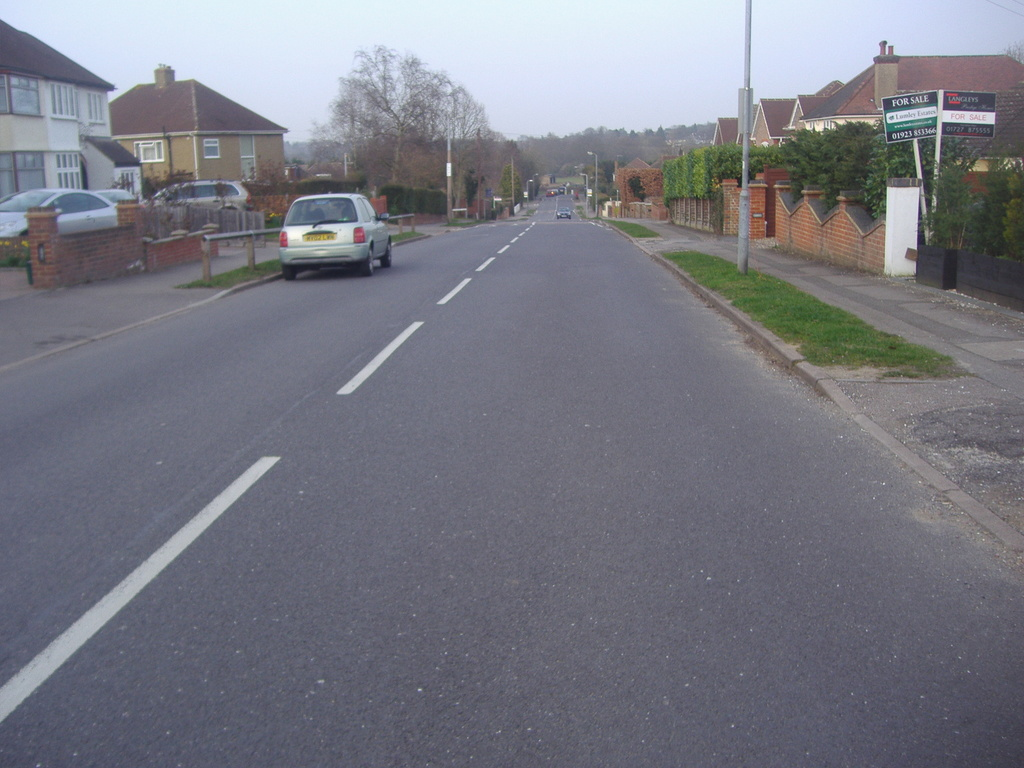Car: (0, 174, 249, 250), (278, 197, 391, 282), (549, 188, 561, 197), (558, 210, 570, 216)
